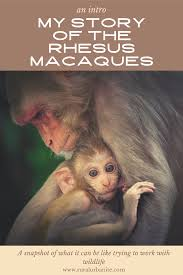monkey: (12, 74, 180, 167), (52, 146, 167, 240)
